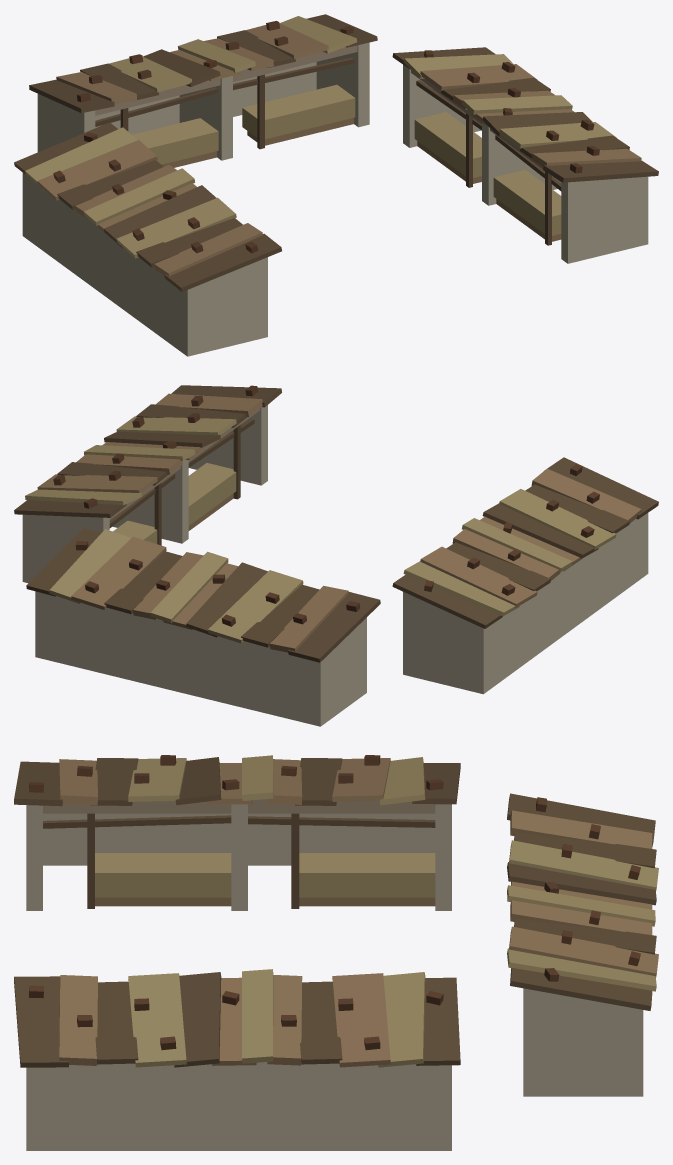
Rendered from Building_mode_L1_Market001.fbx.
The picture shows the model from 3 angles, top to bottom: view 1: azimuth 30°, elevation 25°; view 2: azimuth 150°, elevation 25°; view 3: azimuth 270°, elevation 25°; orthographic projection. The views are drawn at different scales.
Visible parts, largest first — view 1: Building_mode_L1_Market001; view 2: Building_mode_L1_Market001; view 3: Building_mode_L1_Market001.
Part boxes in pixels (x1,y1,x2,y2): Building_mode_L1_Market001: (14,14,658,356); Building_mode_L1_Market001: (14,385,658,726); Building_mode_L1_Market001: (14,755,658,1150).
Bounding box in the file's own units: 13.47 × 2.58 × 12.08.
